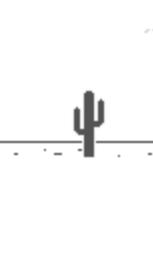t-rex: (70, 87, 109, 162)
